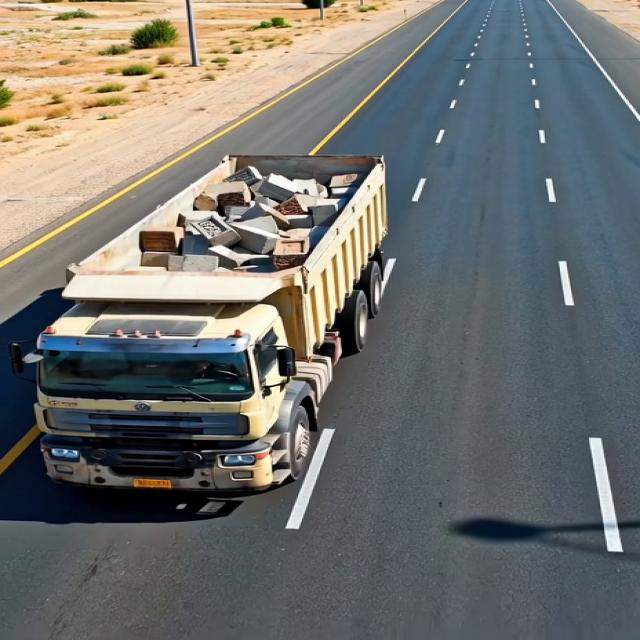trailer: (52, 149, 388, 306)
truck: (34, 132, 422, 512)
